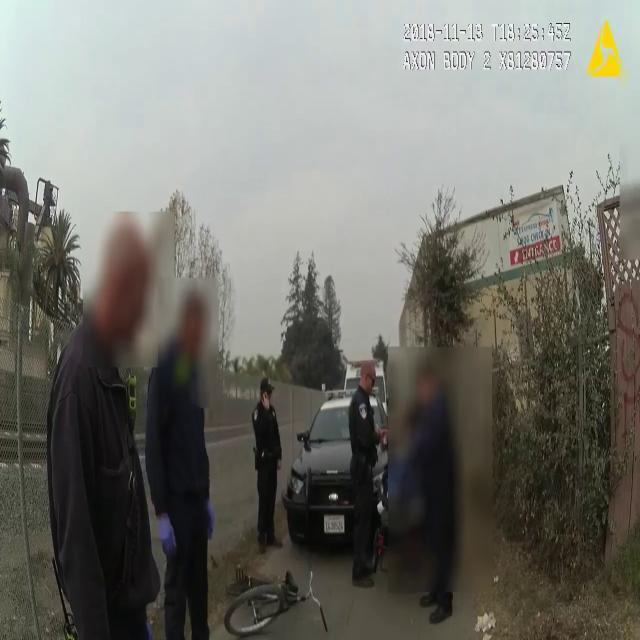gun: (249, 442, 261, 476)
